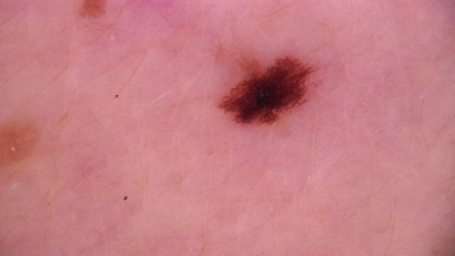melanoma: (217, 56, 314, 122)
